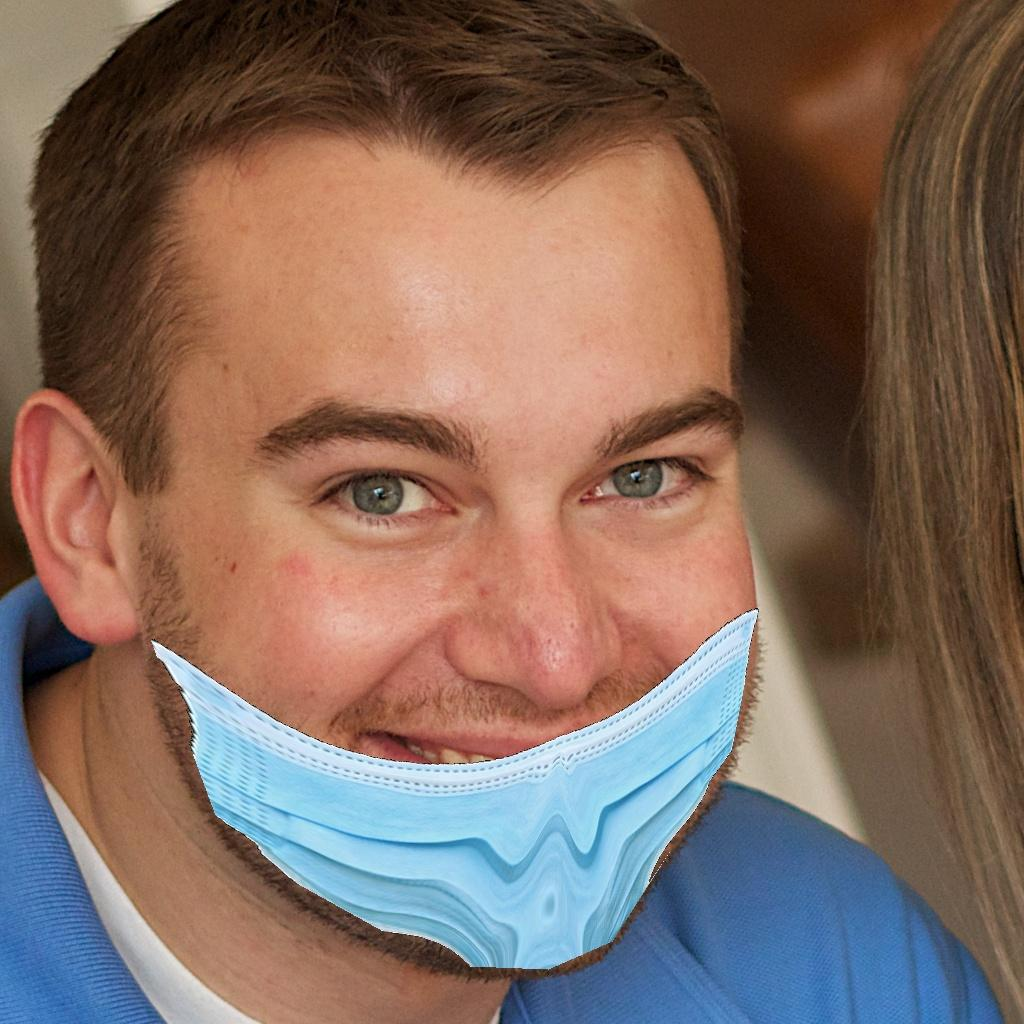Máscara Incorreta: (170, 238, 767, 964)
